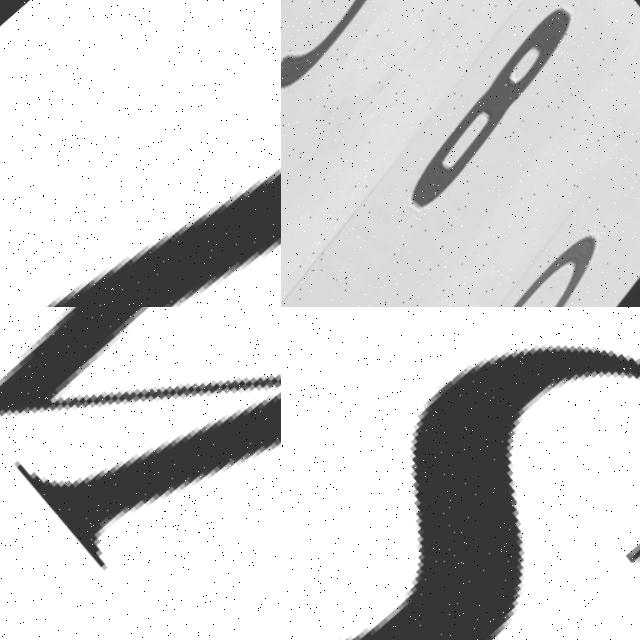0: (323, 190, 640, 307)
5: (281, 0, 496, 126)
8: (357, 0, 633, 243)
I: (46, 177, 281, 307)
M: (0, 307, 281, 640)
S: (281, 307, 640, 640)
